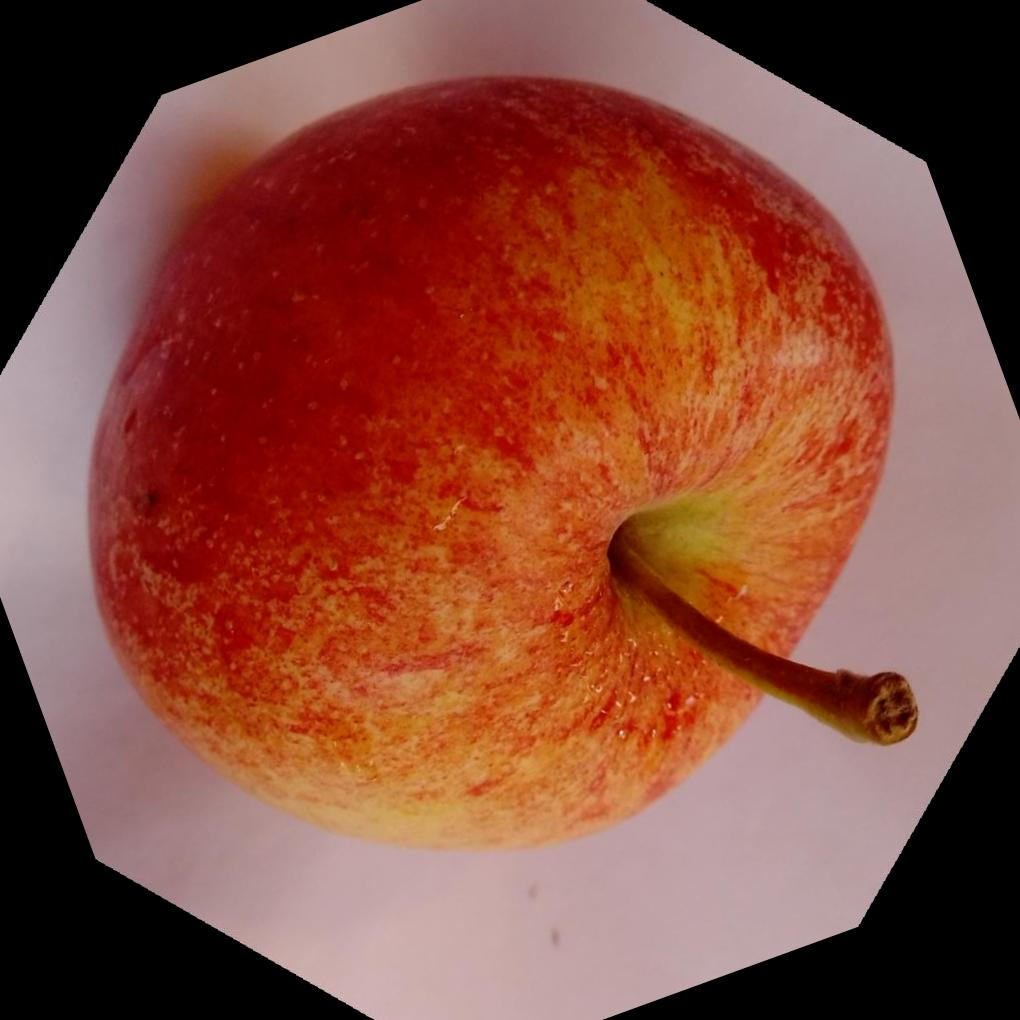FreshGuava: (80, 72, 911, 855)
